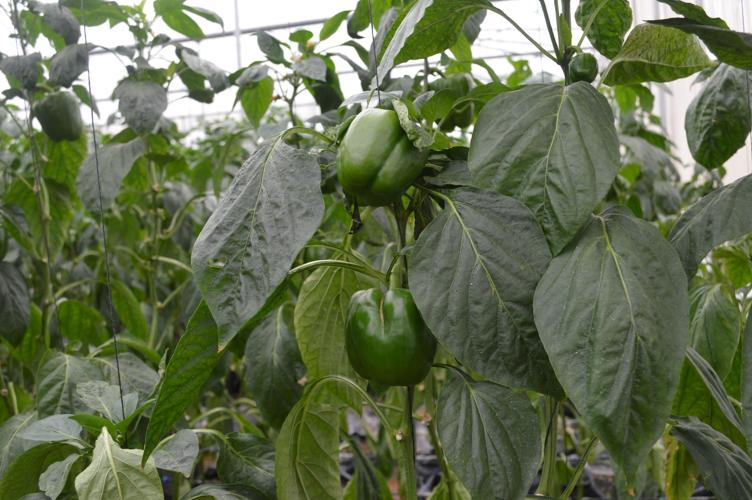BellPepper: (331, 90, 437, 215), (331, 285, 444, 398), (29, 85, 103, 154)
